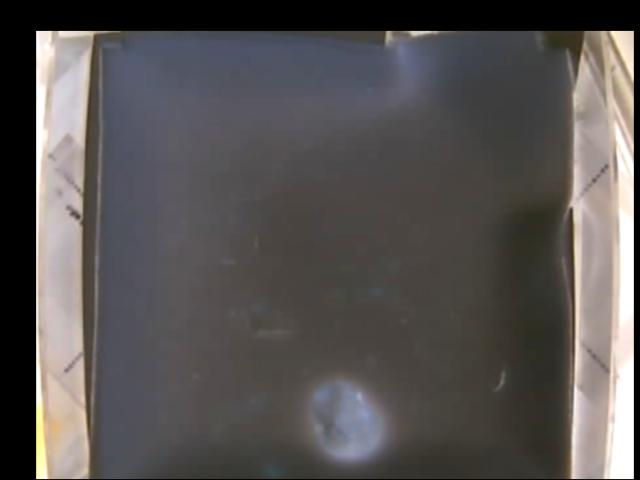Pebble: (309, 380, 381, 457)
